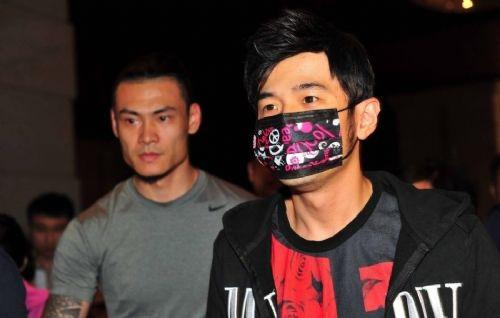NONE: (117, 103, 185, 177), (32, 218, 67, 256)
WRONG: (255, 81, 352, 188)
